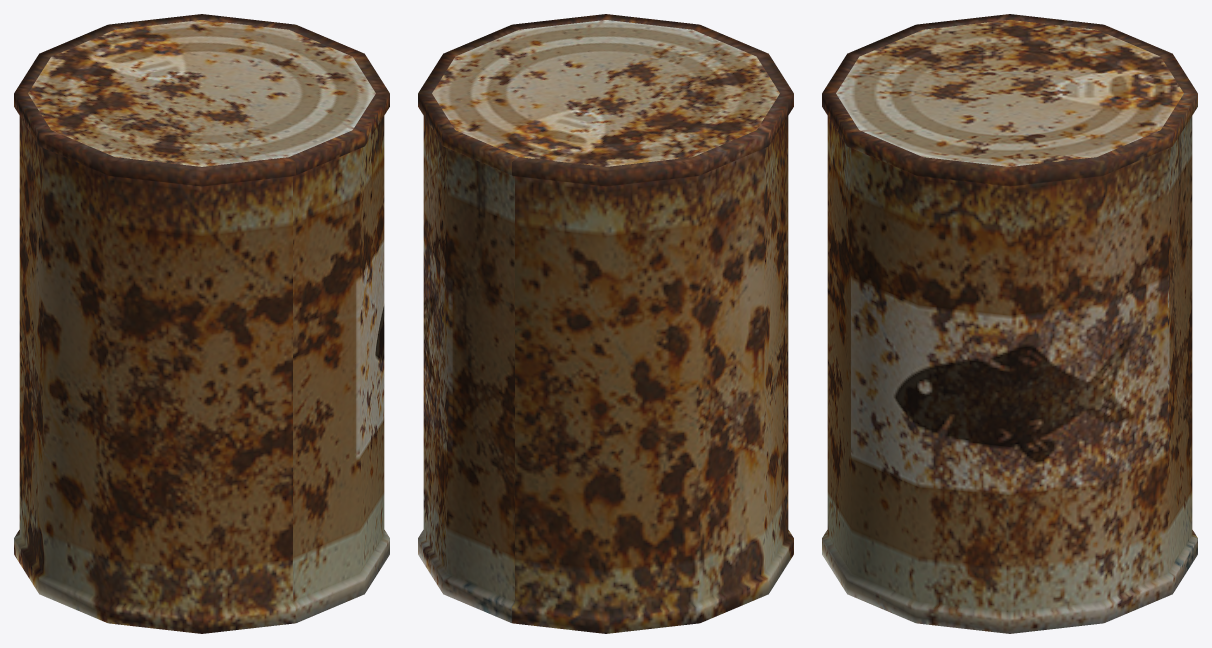
Rendered from can02.fbx.
The picture shows the model from 3 angles, left to right: view 1: azimuth 30°, elevation 25°; view 2: azimuth 150°, elevation 25°; view 3: azimuth 270°, elevation 25°; orthographic projection.
Visible parts, largest first — view 1: _01_canS; view 2: _01_canS; view 3: _01_canS.
Boxes of the visible parts, bbox=[...] form: _01_canS: bbox=[14, 14, 389, 633]; _01_canS: bbox=[418, 14, 793, 633]; _01_canS: bbox=[822, 14, 1197, 633].
Size of the model in its own units: 1.36 by 1.84 by 1.36.
